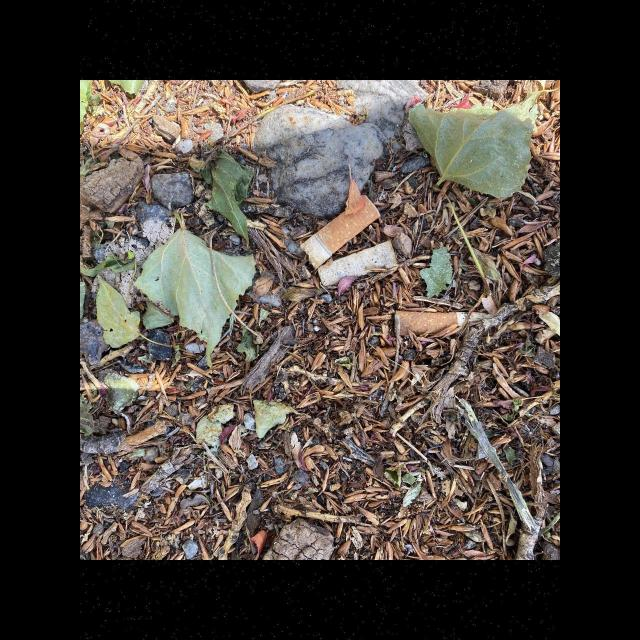cigarette: (298, 194, 382, 270), (316, 240, 399, 288), (393, 311, 491, 336)
